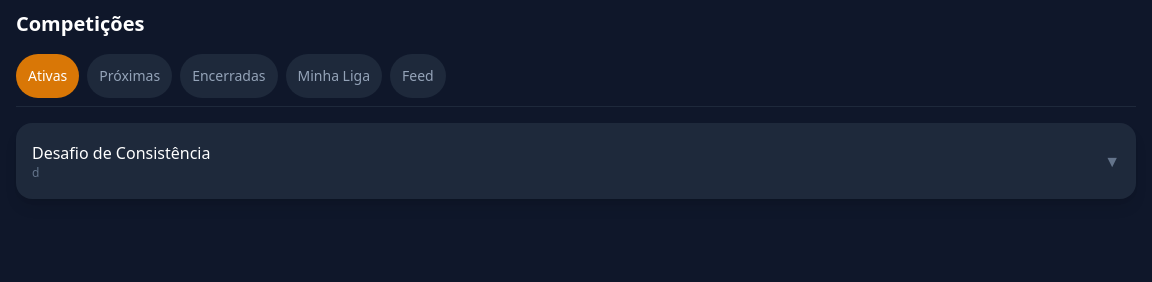
Test case: Competicoes › troca pra aba de Liga e mostra a liga atual
The width and height of the screenshot is (1152, 282).
Expected: the text "Desafio de Consistência" is shown, [32, 141, 210, 165]
Click the button "Minha Liga" at (334, 76), box [286, 54, 382, 98]
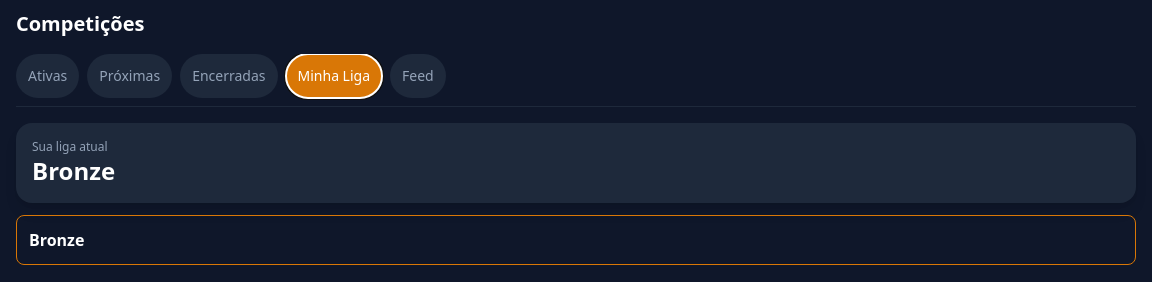
Now the text "Sua liga atual" is shown, box [32, 138, 108, 155]
Now the text "Bronze" below "Sua liga atual" is shown, box [32, 154, 115, 187]
